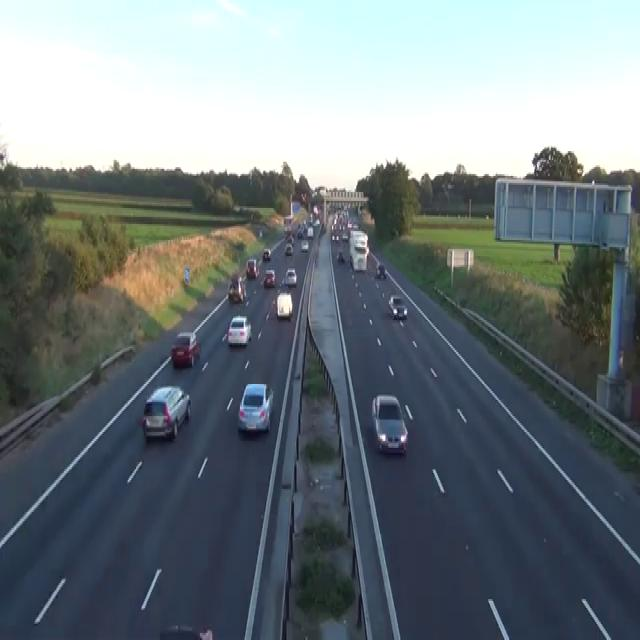Car: (141, 384, 191, 439), (371, 393, 408, 455), (237, 382, 273, 434), (170, 331, 200, 368), (331, 208, 360, 242), (227, 314, 251, 346), (159, 624, 213, 638), (275, 290, 293, 320), (388, 293, 407, 320), (228, 276, 246, 302), (246, 258, 259, 279), (283, 267, 297, 286), (263, 268, 275, 286), (375, 261, 386, 279), (347, 215, 359, 229), (336, 249, 345, 263), (0, 149, 6, 169), (262, 247, 271, 260), (300, 238, 308, 251), (441, 182, 454, 190), (341, 229, 348, 242), (319, 222, 326, 235), (284, 244, 293, 254), (297, 224, 303, 238), (306, 226, 313, 238), (286, 233, 294, 243), (232, 202, 240, 212), (331, 233, 339, 242), (313, 217, 320, 226), (446, 182, 454, 188), (259, 228, 262, 236)
Truck: (348, 229, 369, 272)
